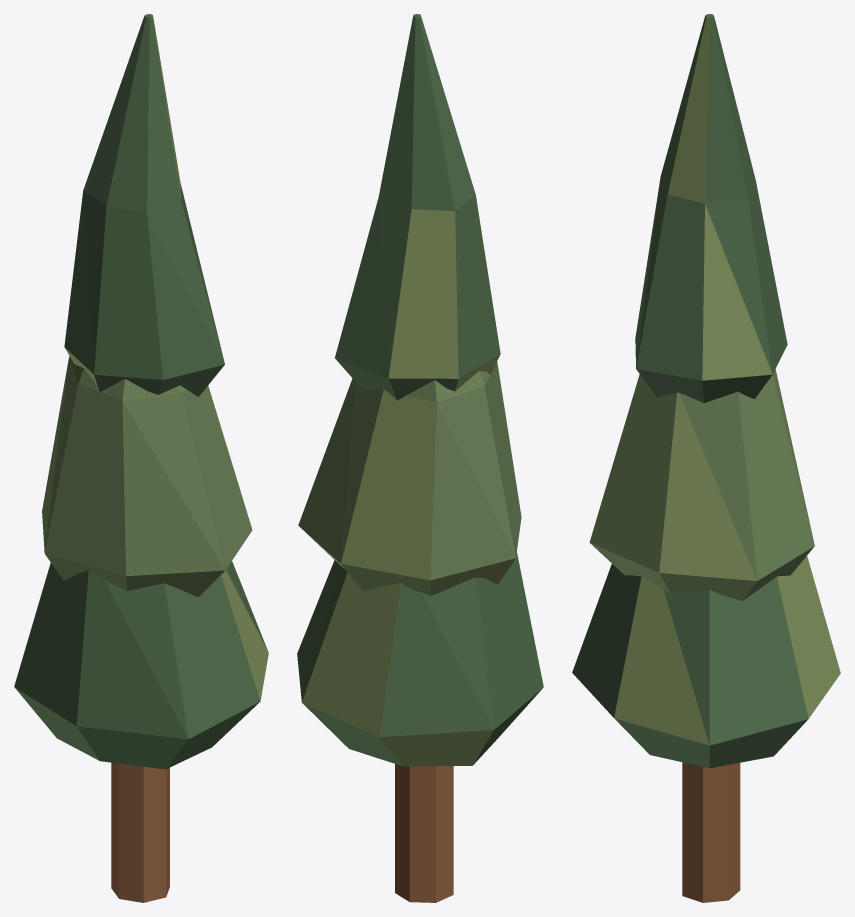
The model's file is tree_cypress.glb.
The picture shows the model from 3 angles, left to right: view 1: azimuth 30°, elevation 25°; view 2: azimuth 150°, elevation 25°; view 3: azimuth 270°, elevation 25°; orthographic projection.
Visible parts, largest first — view 1: tree_cypress; view 2: tree_cypress; view 3: tree_cypress.
Boxes of the visible parts, x1=… form: tree_cypress: x1=14, y1=14, x2=268, y2=902; tree_cypress: x1=297, y1=14, x2=543, y2=902; tree_cypress: x1=572, y1=14, x2=840, y2=902.
Size of the model in its own units: 0.7337 by 2.71 by 0.7515.
